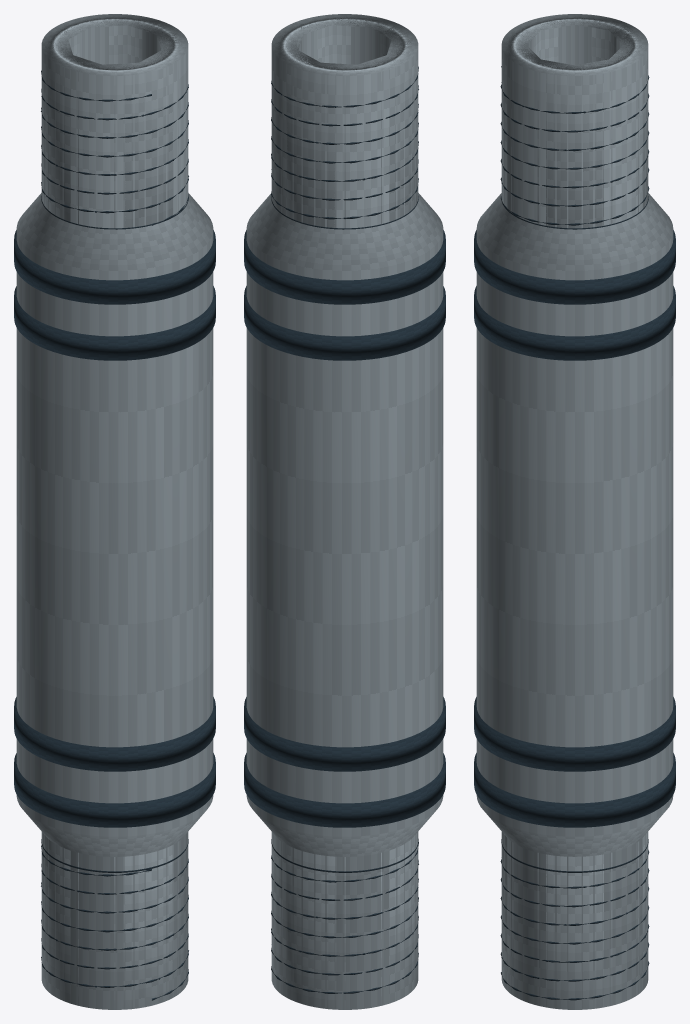
File: crossover.glb
The picture shows the model from 3 angles, left to right: view 1: azimuth 30°, elevation 25°; view 2: azimuth 150°, elevation 25°; view 3: azimuth 270°, elevation 25°; orthographic projection.
Visible parts, largest first — view 1: tool-housing (×3), service-features (×2), uphole-connection (×4), downhole-connection (×3); view 2: tool-housing (×3), service-features (×2), uphole-connection (×4), downhole-connection (×3); view 3: tool-housing (×3), service-features (×2), uphole-connection (×4), downhole-connection (×3).
Part boxes in pixels (x1=…): tool-housing (×3): x1=16, y1=14, x2=213, y2=1009; service-features (×2): x1=14, y1=230, x2=215, y2=827; uphole-connection (×4): x1=41, y1=14, x2=188, y2=229; downhole-connection (×3): x1=41, y1=832, x2=188, y2=1009; tool-housing (×3): x1=246, y1=14, x2=443, y2=1009; service-features (×2): x1=244, y1=230, x2=445, y2=827; uphole-connection (×4): x1=271, y1=14, x2=418, y2=229; downhole-connection (×3): x1=271, y1=832, x2=418, y2=1009; tool-housing (×3): x1=476, y1=14, x2=673, y2=1009; service-features (×2): x1=474, y1=230, x2=675, y2=827; uphole-connection (×4): x1=500, y1=14, x2=649, y2=229; downhole-connection (×3): x1=500, y1=832, x2=649, y2=1009.
Size of the model in its own units: 0.1195 by 0.61 by 0.1195.
Materials: 2 (2 with a texture image).
